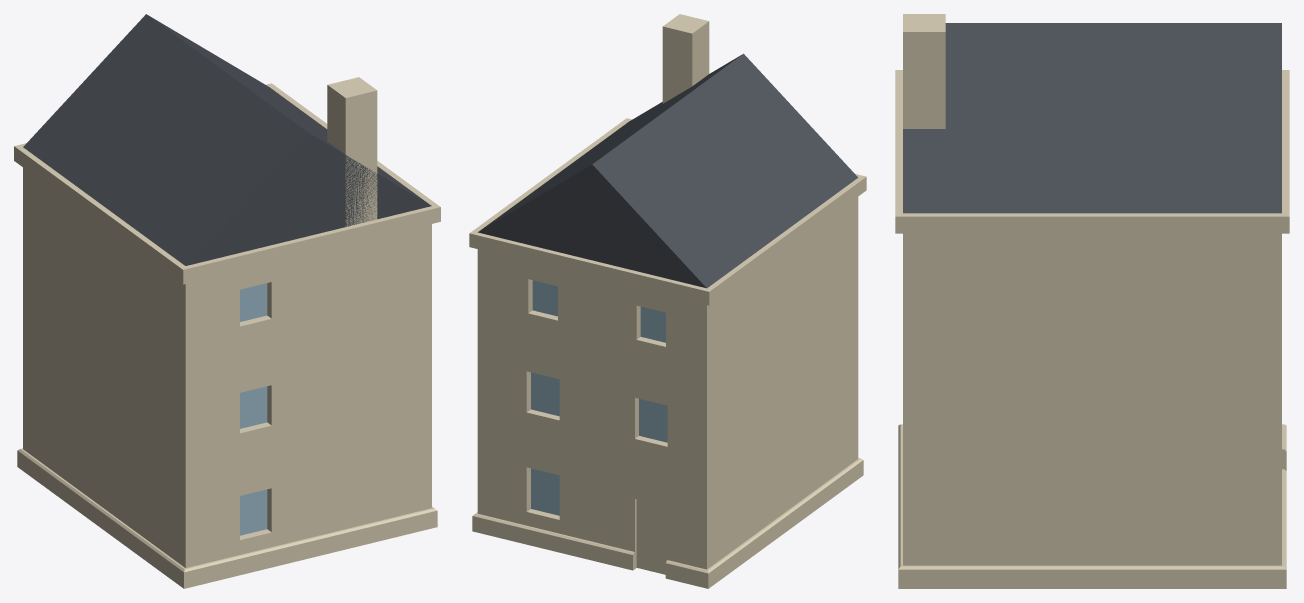
3 renders of one model, left to right at view 1: azimuth 30°, elevation 25°; view 2: azimuth 150°, elevation 25°; view 3: azimuth 270°, elevation 25°, orthographic. The views are drawn at different scales.
Visible parts, largest first — view 1: body_plaster, roof_slate, trim_plaster, glass_glass (×3); view 2: body_plaster, roof_slate, trim_plaster, glass_glass (×5); view 3: body_plaster, roof_slate, trim_plaster.
Boxes of the visible parts, x1,y1,x2,y2 form: body_plaster: (23, 77, 431, 568); roof_slate: (23, 14, 431, 265); trim_plaster: (14, 83, 440, 588); glass_glass (×3): (240, 283, 267, 535); body_plaster: (477, 14, 858, 574); roof_slate: (478, 53, 857, 288); trim_plaster: (469, 118, 866, 588); glass_glass (×5): (531, 280, 667, 515); body_plaster: (903, 14, 1281, 565); roof_slate: (903, 23, 1281, 213); trim_plaster: (895, 70, 1289, 588).
Size of what is drawn, in the model's own units: 7.32 by 12.2 by 8.32.
